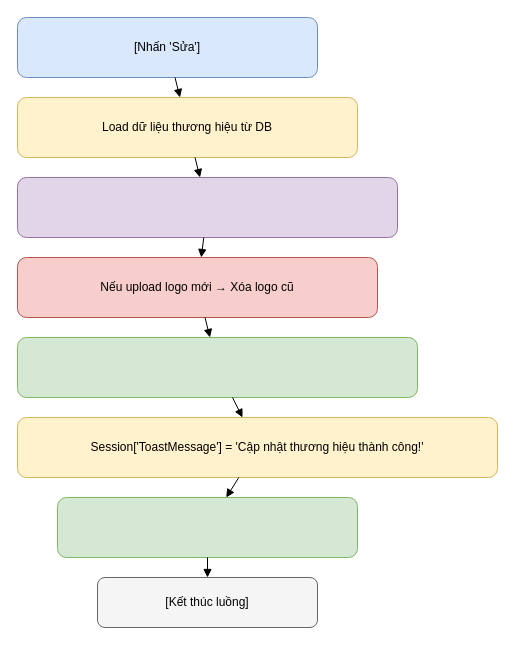
The diagram is 515 pixels wide and 645 high, and some of its shapes have lost their labels. The shapes that lost their labels are listed below. From the top down, each one's centre as x and y in pixels, then its label:
the point at 207,207: Admin chỉnh sửa → Nhấn 'Cập nhật'
the point at 217,367: UPDATE brand SET ... WHERE id=@id
the point at 207,527: Chuyển về Brand.aspx
